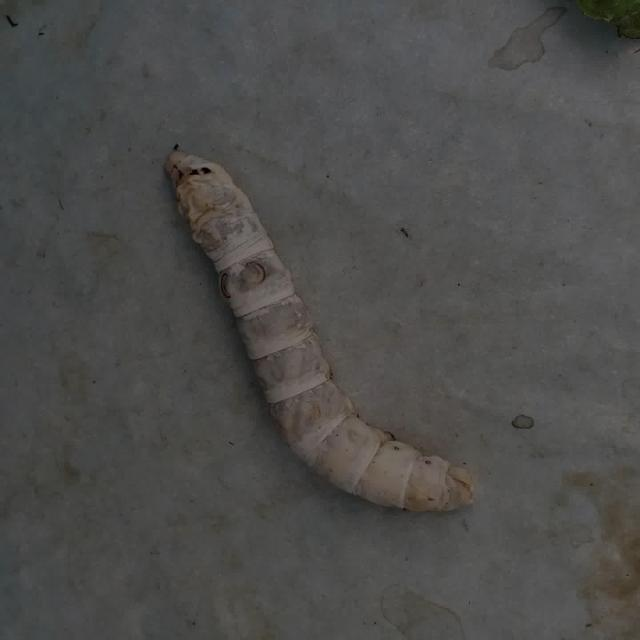Grasserie: (158, 138, 482, 528)
